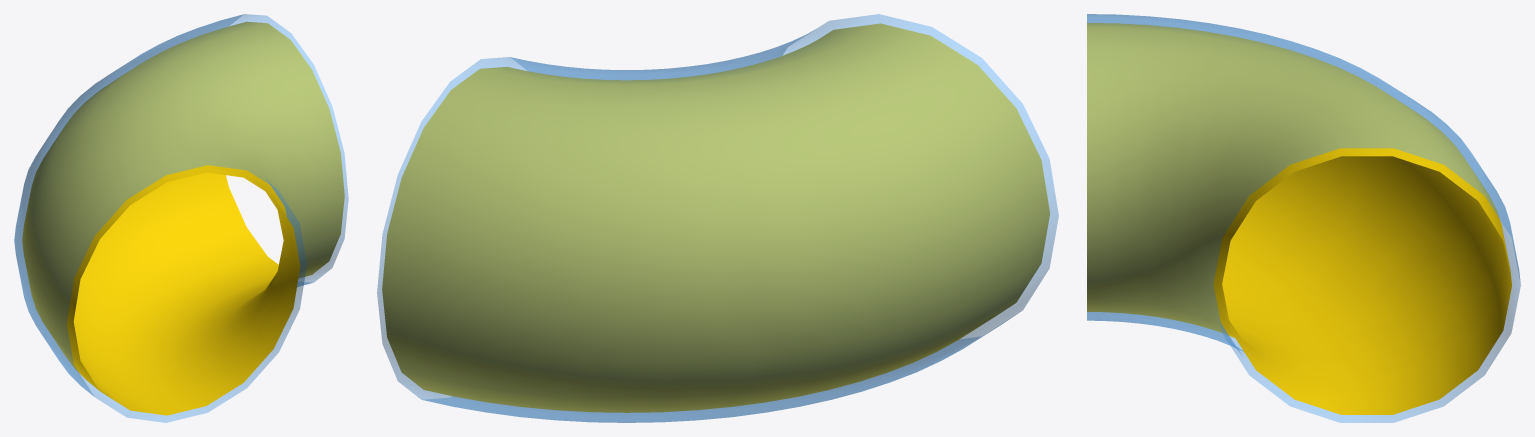
File: 直角管.glb
3 views of the same model, side by side, from view 1: azimuth 30°, elevation 25°; view 2: azimuth 150°, elevation 25°; view 3: azimuth 270°, elevation 25° (orthographic). The views are drawn at different scales.
Parts seen in each view (by area): view 1: 贴图, Box001; view 2: Box001, 贴图; view 3: 贴图, Box001.
Part boxes in pixels (box(x1,y1,x2,y2)): 贴图: box(22, 21, 344, 415); Box001: box(14, 14, 348, 422); Box001: box(377, 14, 1058, 422); 贴图: box(382, 23, 1049, 412); 贴图: box(1087, 22, 1511, 414); Box001: box(1087, 14, 1520, 422).
Bounding box in the file's own units: 4.93 × 3.45 × 4.93.
